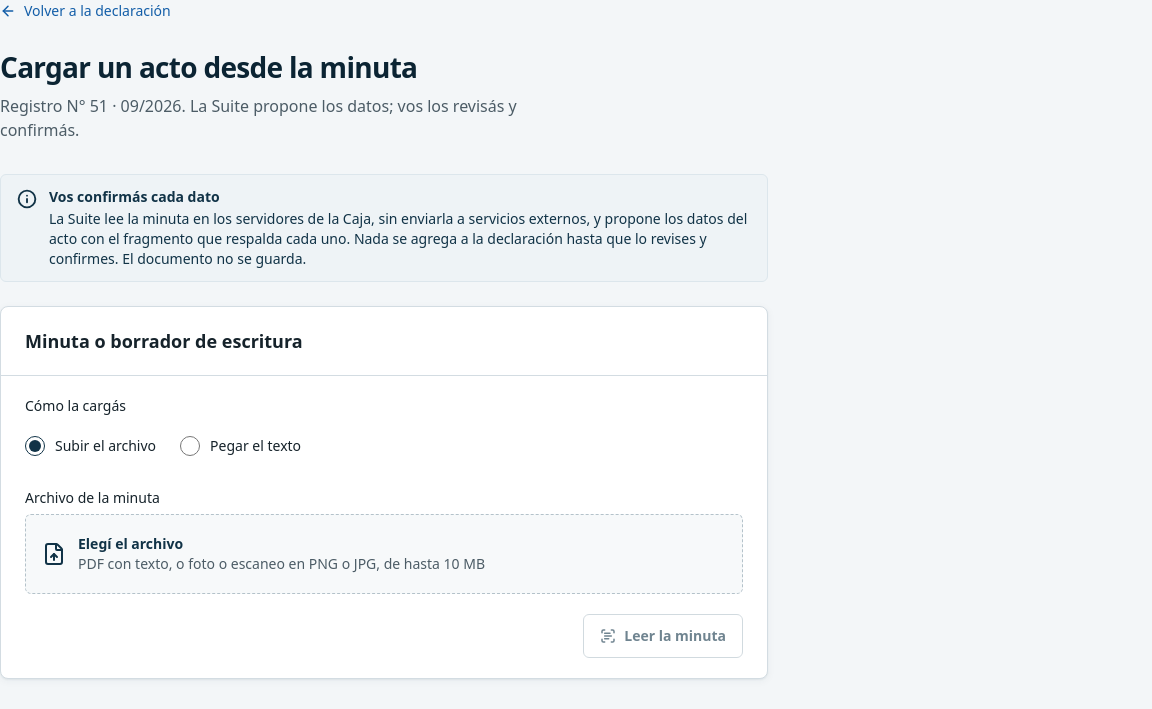
Test case: carga desde la minuta (Human in Command) › cambiar un dato después de tildar la revisión exige volver a tildarla
Click the radio button labelled "Pegar el texto": (190, 446) [180,436,200,456]
(page scrolled)
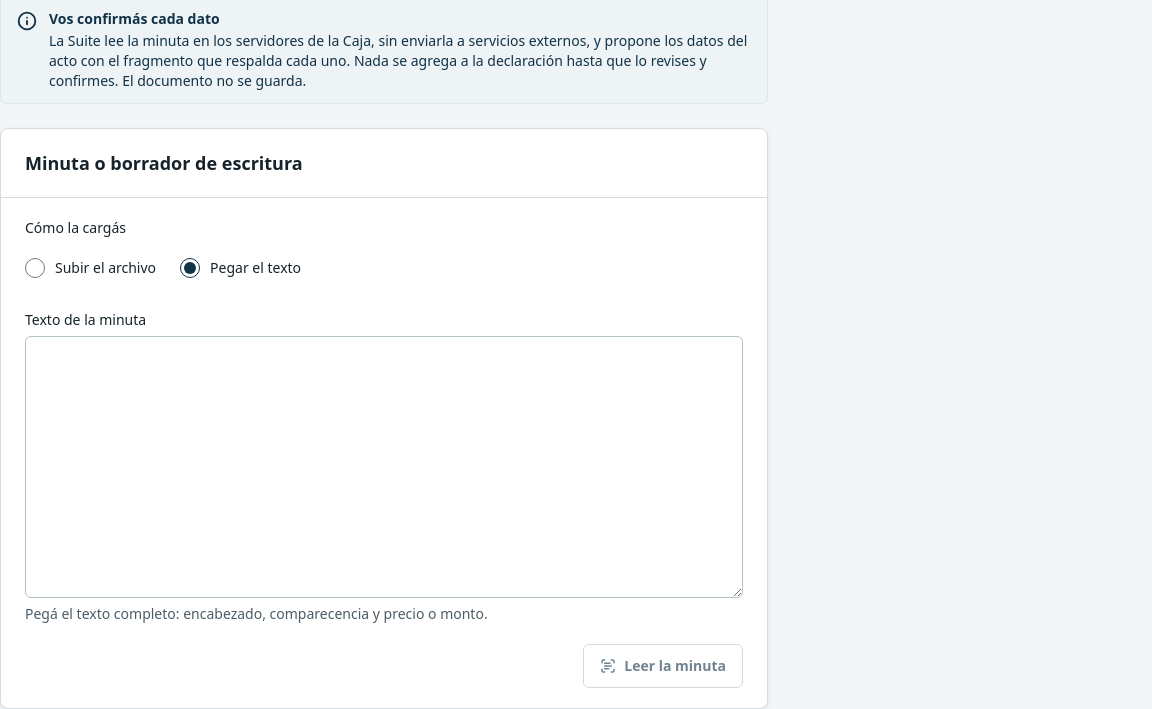
In the text box labelled "Texto de la minuta": (384, 467) [25,336,743,598], type "ESCRITURA NÚMERO CIENTO VEINTE (120)…"
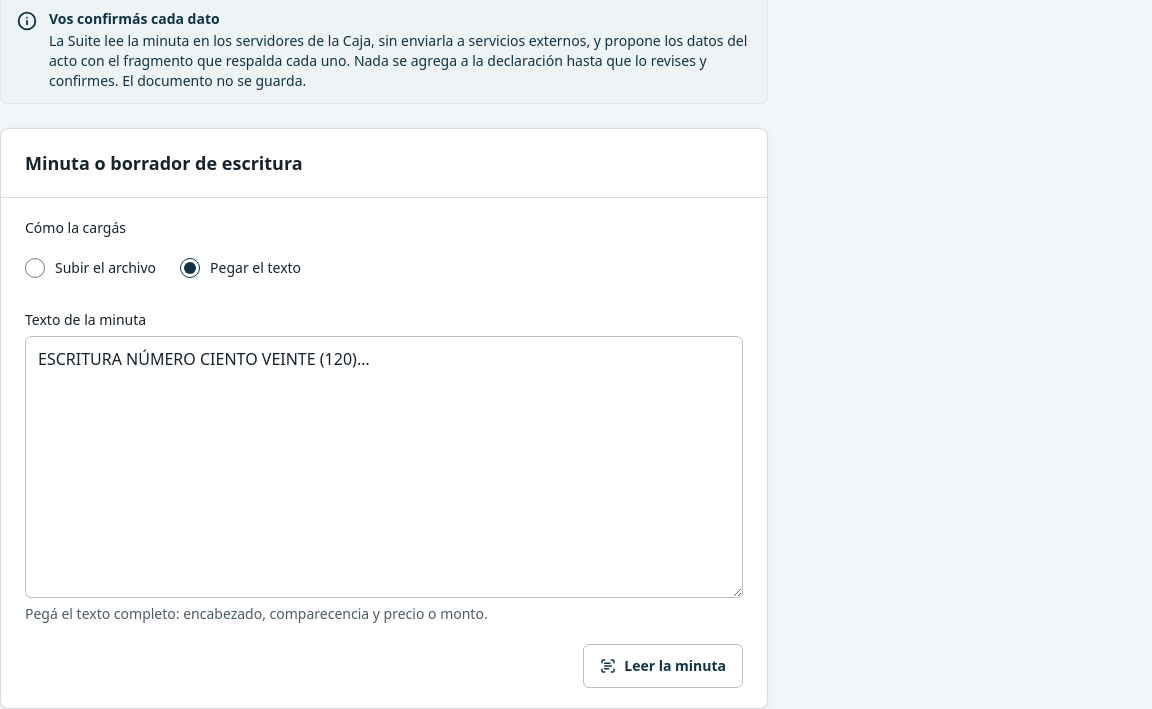
Click the button "Leer la minuta": (663, 666) [583,644,743,688]
(page scrolled)
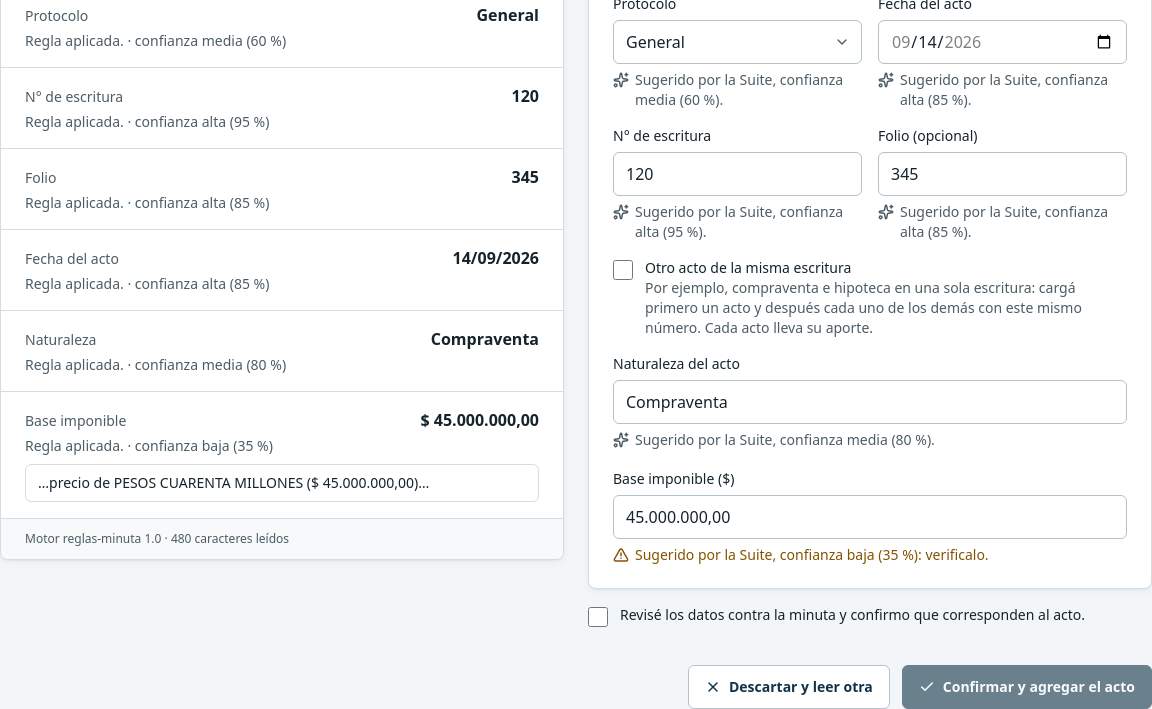
Click the checkbox labelled "Revisé los datos contra la minuta": (598, 617) [588,607,608,627]
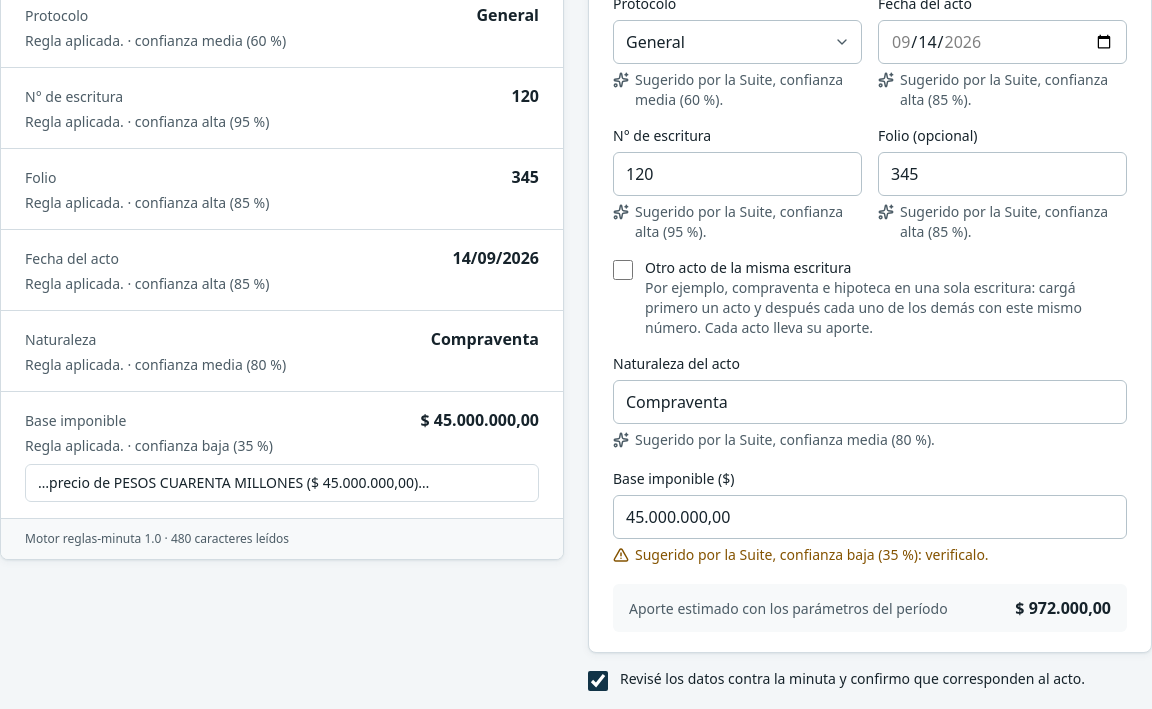
Replace the text in the field labelled "N° de escritura" with "121": (738, 174) [613,152,862,196]
(page scrolled)
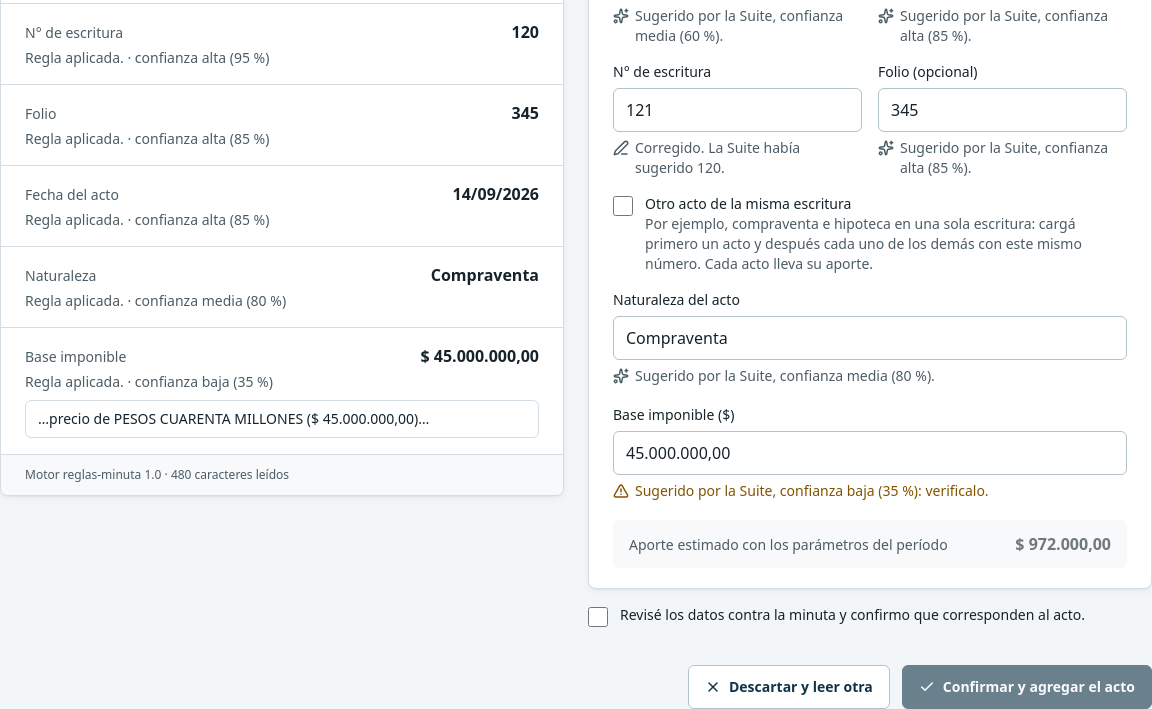
Expected: the button "Confirmar y agregar el acto" is disabled, [902,665,1151,708]
